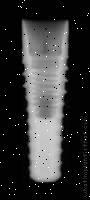3M ESPE: (17, 19, 69, 185)
